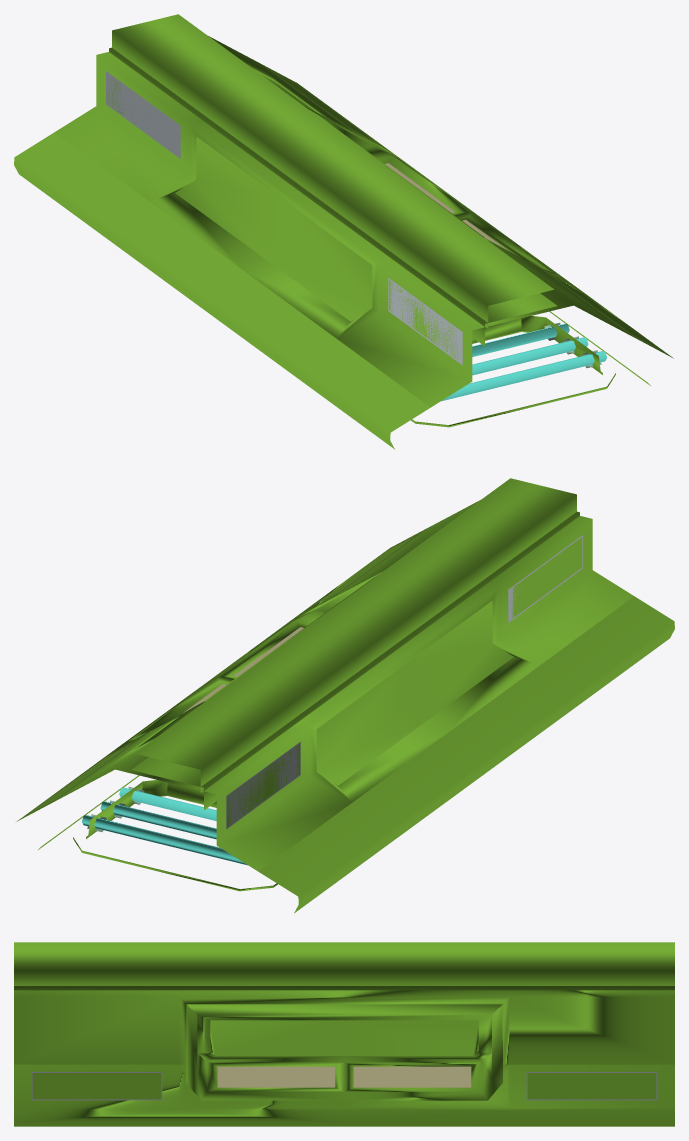
The model's file is roomlg_b_addon_ceiling_light_straight_02x04x01_lod1.glb.
The picture shows the model from 3 angles, top to bottom: view 1: azimuth 30°, elevation 25°; view 2: azimuth 150°, elevation 25°; view 3: azimuth 270°, elevation 25°; orthographic projection. The views are drawn at different scales.
Bounding box in the file's own units: 1.75 × 0.7112 × 4.
